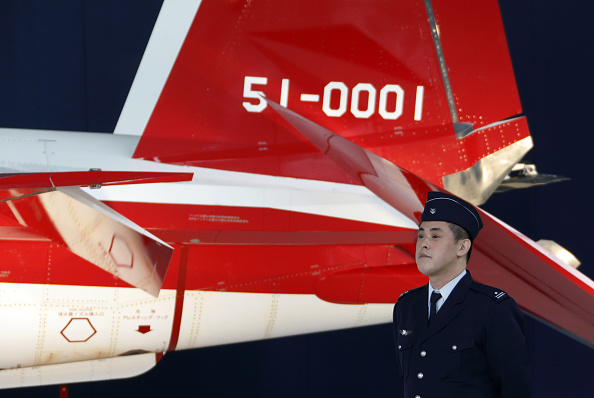em pe: (388, 189, 541, 398)
